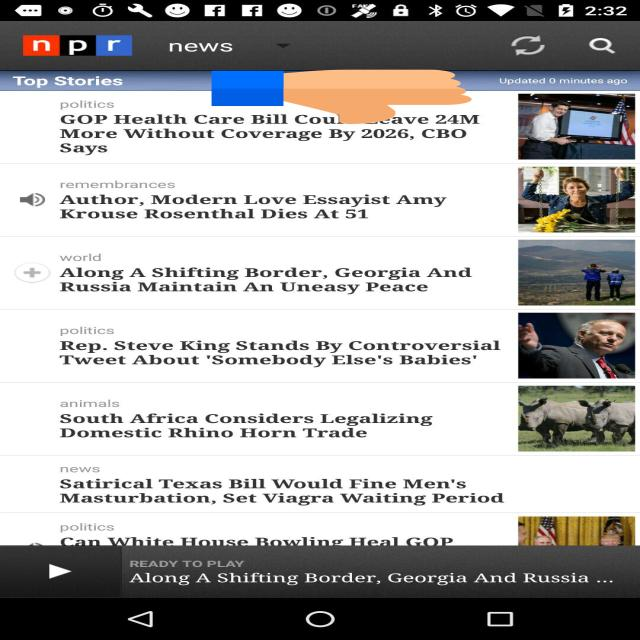obstruction: (212, 68, 472, 125)
